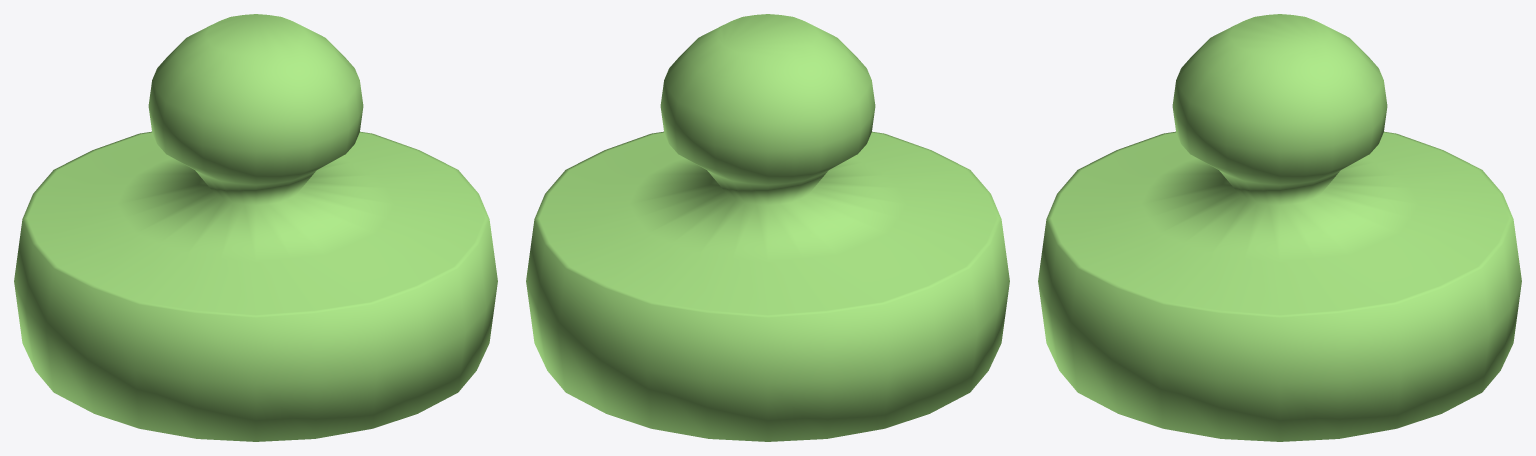
The model's file is SmallWeight.fbx.
3 renders of one model, left to right at view 1: azimuth 30°, elevation 25°; view 2: azimuth 150°, elevation 25°; view 3: azimuth 270°, elevation 25°, orthographic.
Visible parts, largest first — view 1: SmallWeight; view 2: SmallWeight; view 3: SmallWeight.
Boxes of the visible parts, bbox=[...] form: SmallWeight: bbox=[14, 14, 497, 441]; SmallWeight: bbox=[526, 14, 1009, 441]; SmallWeight: bbox=[1038, 14, 1521, 441].
Bounding box in the file's own units: 12.6 × 8.92 × 12.6.
